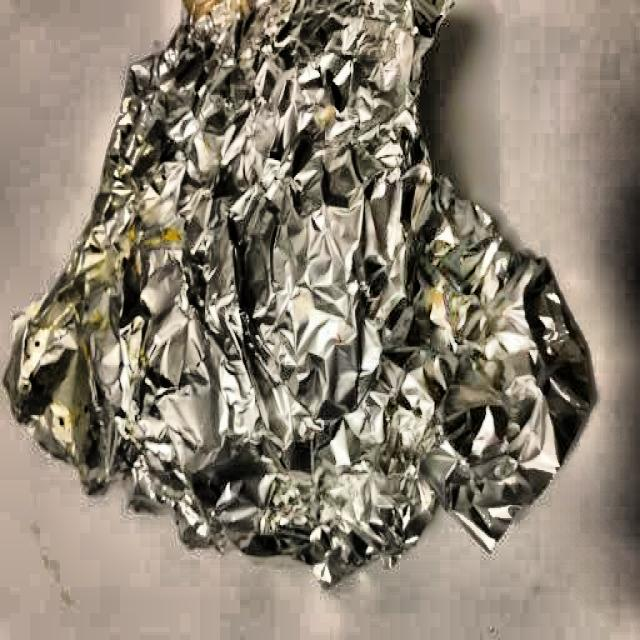metal: (8, 0, 595, 566)
